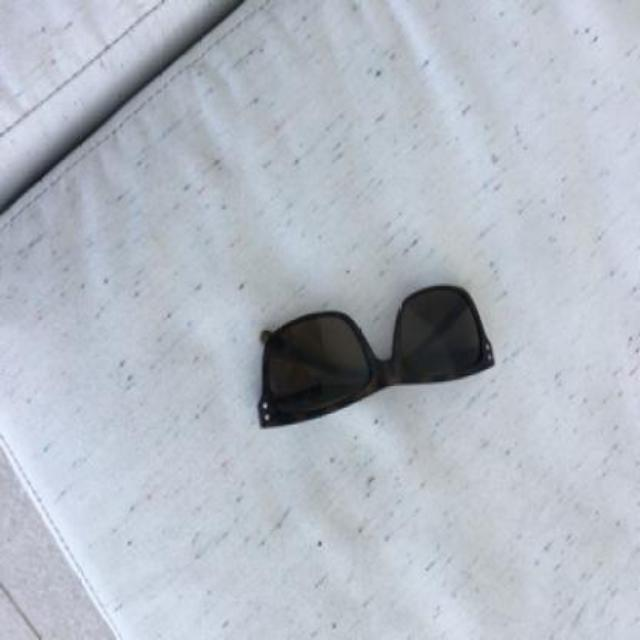glasses: (256, 282, 494, 428)
